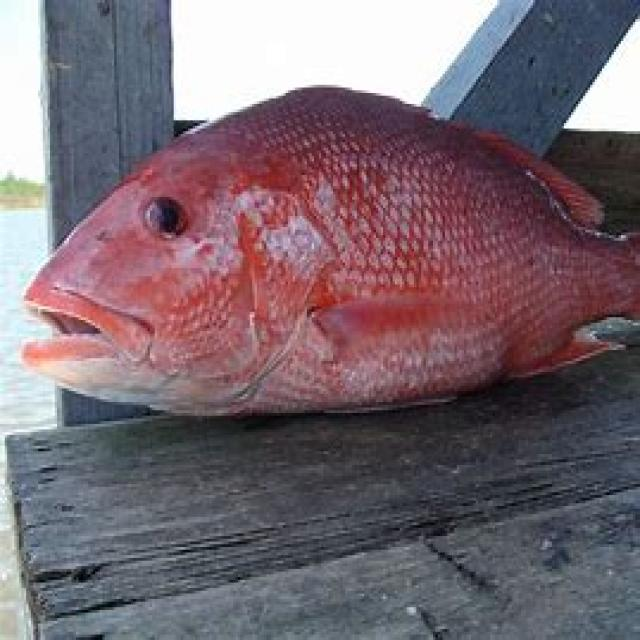Red Snapper: (18, 85, 638, 410)
